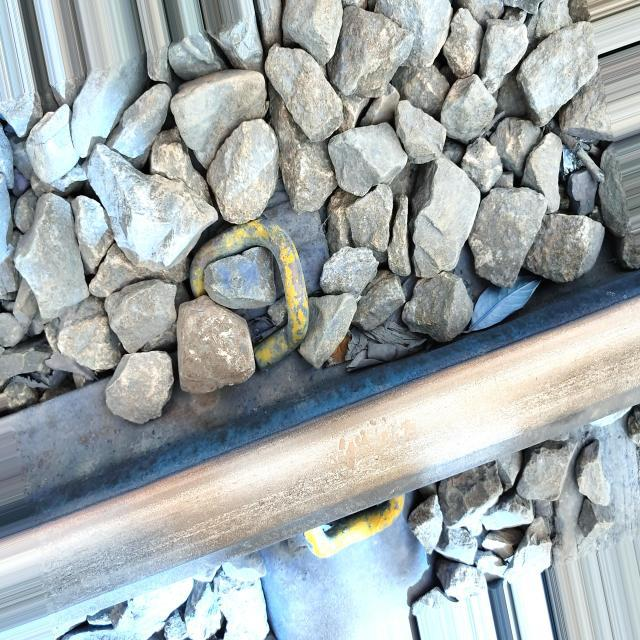Good Fasteners: (187, 183, 355, 382), (298, 491, 418, 558)
